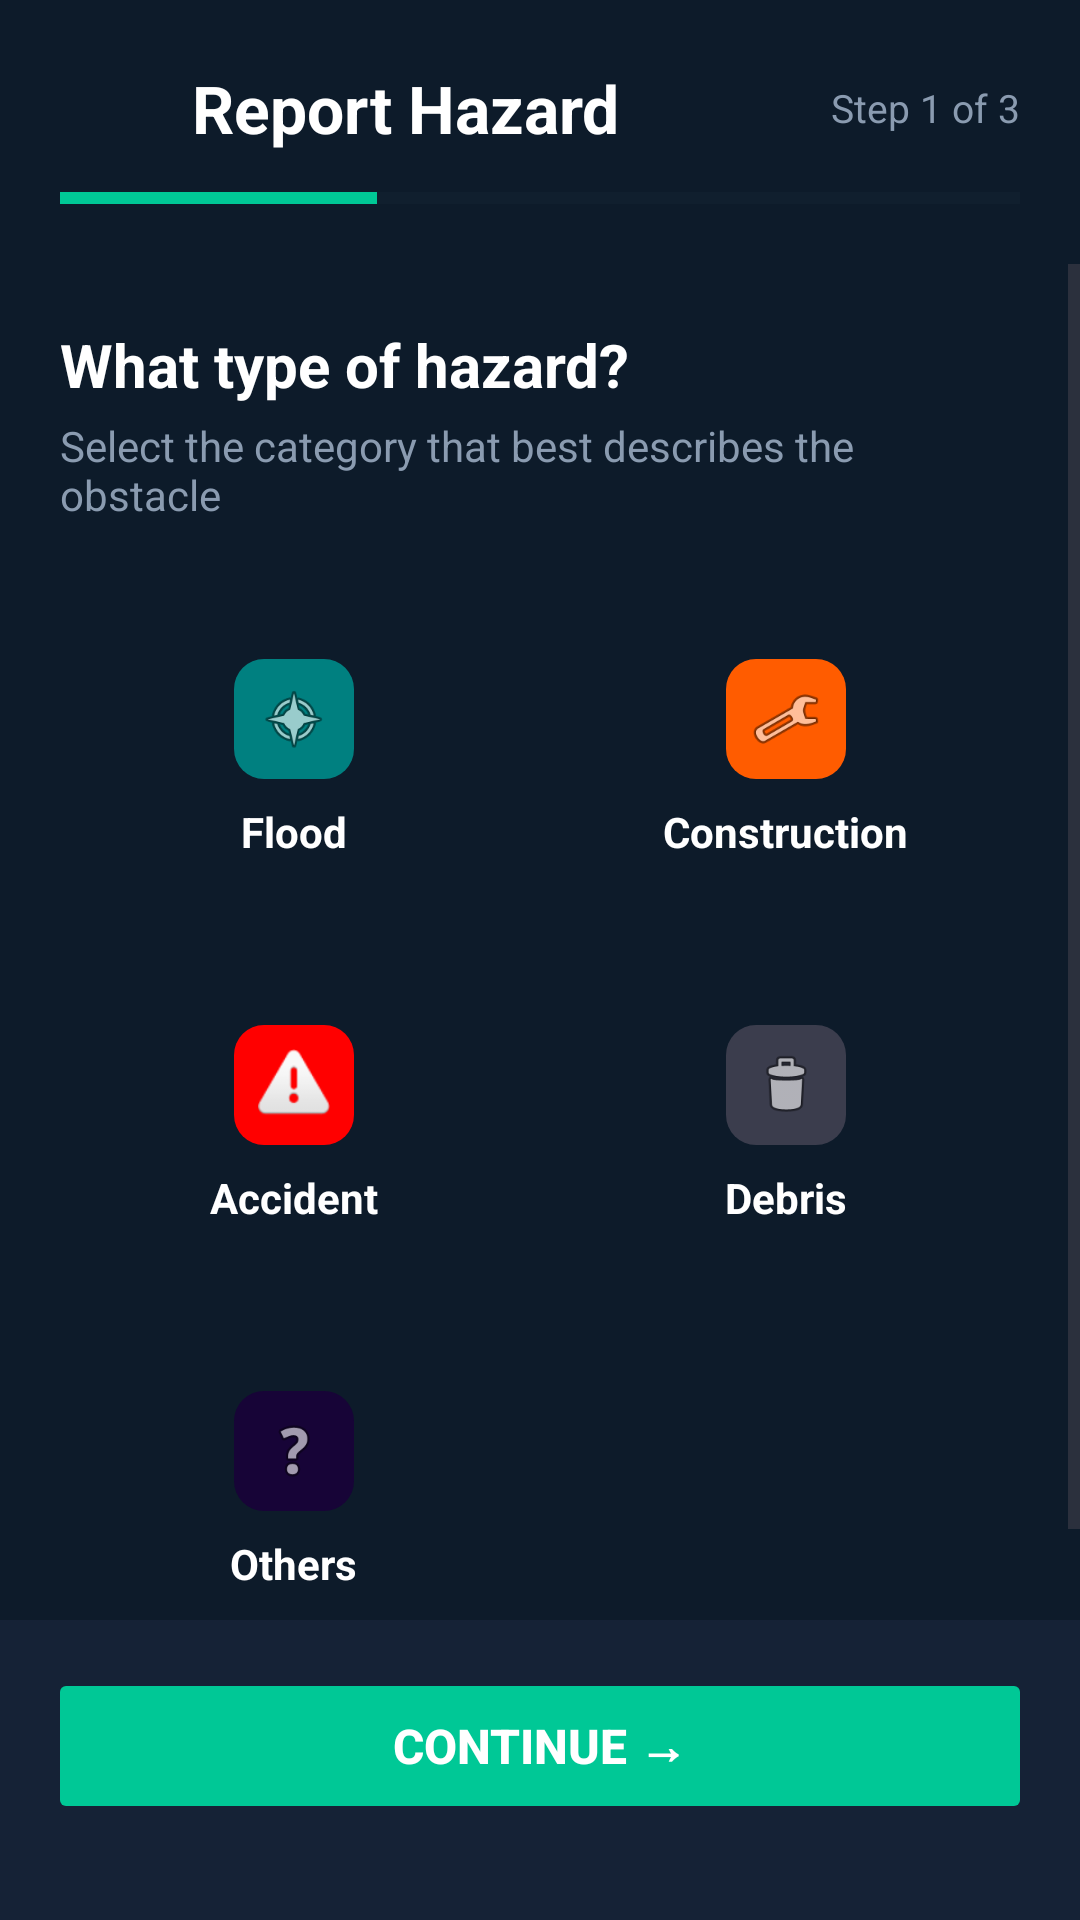

Screen size 1080 x 1920. Icon name, then its box in pixels as (x1, y1, x2, y2):
alert: (234, 1025, 354, 1145)
compass: (234, 659, 354, 779)
delete: (726, 1025, 846, 1145)
help: (234, 1391, 354, 1511)
manage: (726, 659, 846, 779)
